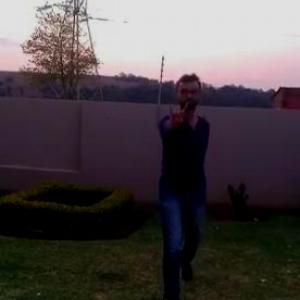takeoff-hand: (162, 101, 191, 140)
